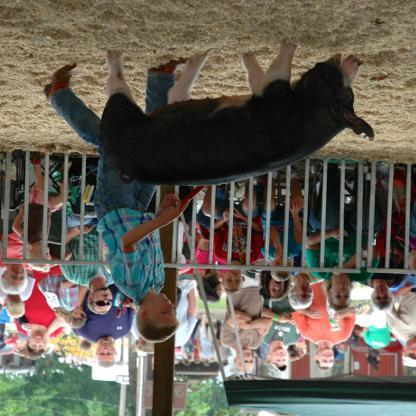boar: (99, 40, 375, 187)
